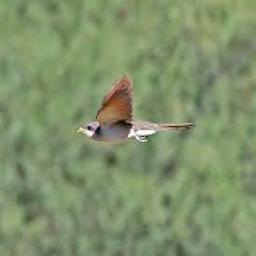Cuckoo: (76, 74, 195, 142)
